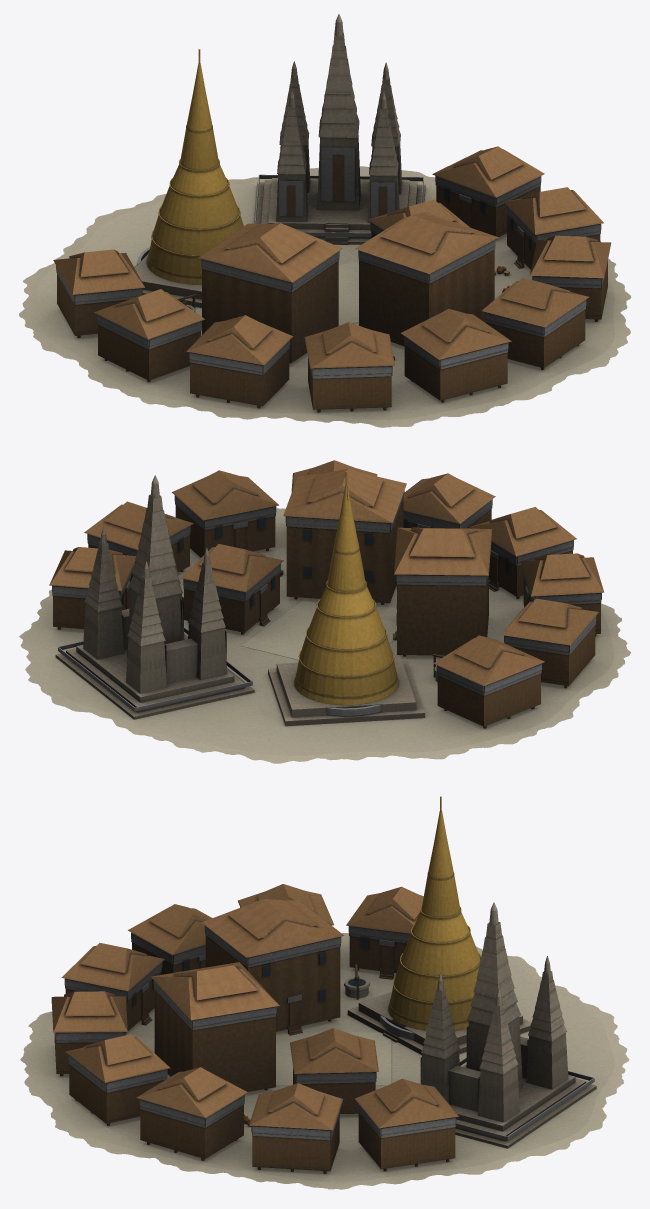
File: kingdoms-town-medium-b-monsoon-a8e481fe.glb
The picture shows the model from 3 angles, top to bottom: view 1: azimuth 30°, elevation 25°; view 2: azimuth 150°, elevation 25°; view 3: azimuth 270°, elevation 25°; orthographic projection.
Parts seen in each view (by area): view 1: LOD0; view 2: LOD0; view 3: LOD0.
Boxes of the visible parts, left/top/right/bottom form: LOD0: left=19, top=14, right=631, bottom=427; LOD0: left=19, top=460, right=630, bottom=763; LOD0: left=20, top=796, right=629, bottom=1189.
Size of what is drawn, in the model's own units: 5.97 by 2.4 by 5.92.
Materials: 3 (3 with a texture image).
